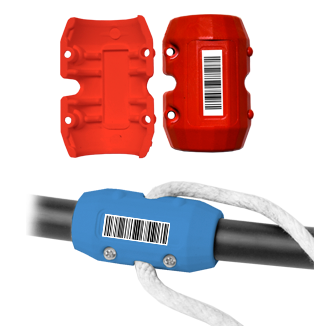Nonrec_Tangler: (17, 165, 306, 292), (24, 16, 268, 148)
